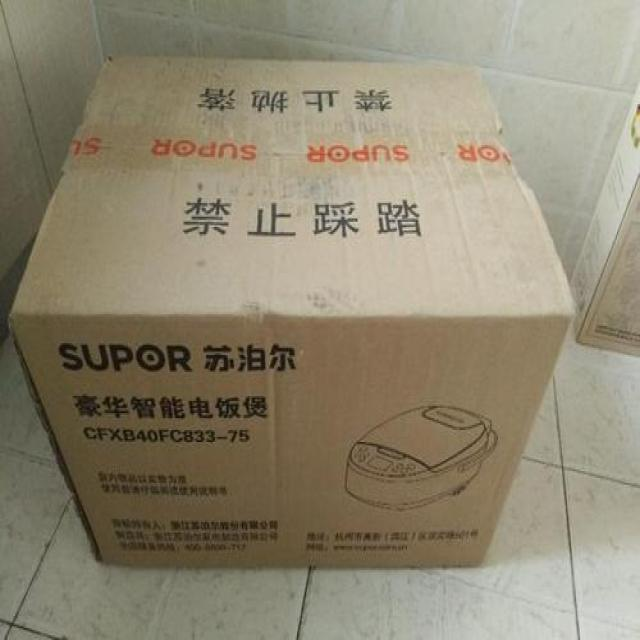-Recyclables - paper box-: (14, 51, 576, 567)
